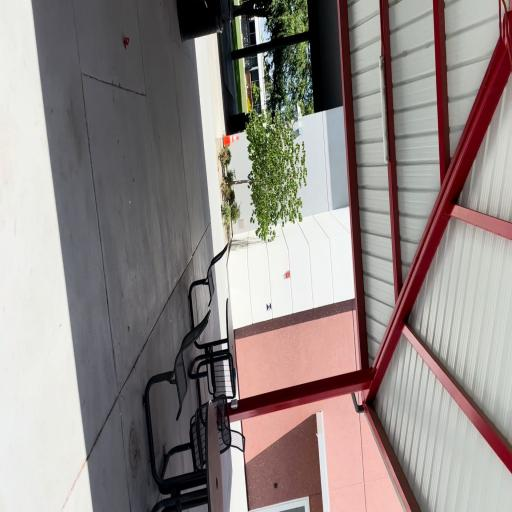target9: (266, 301, 272, 311)
